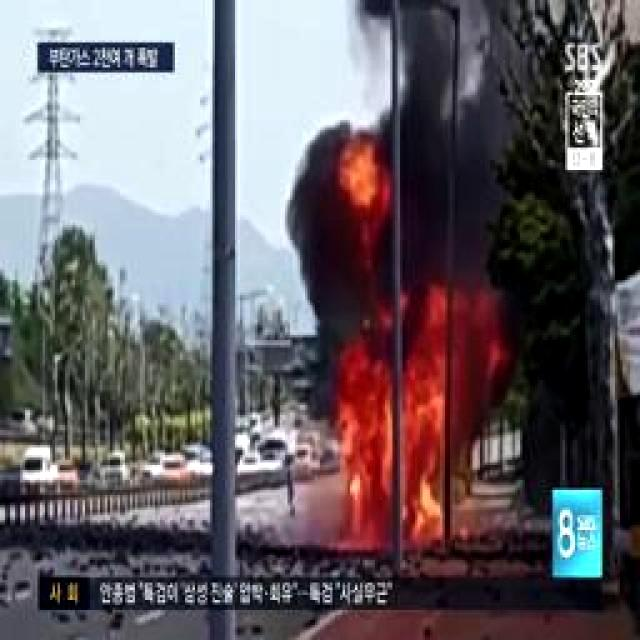fire: (352, 378, 446, 542)
